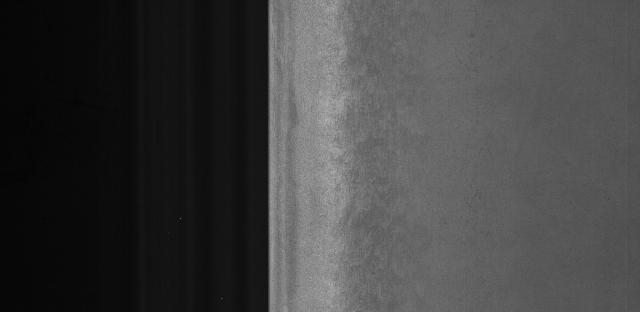silk_spot: (352, 90, 428, 288)
